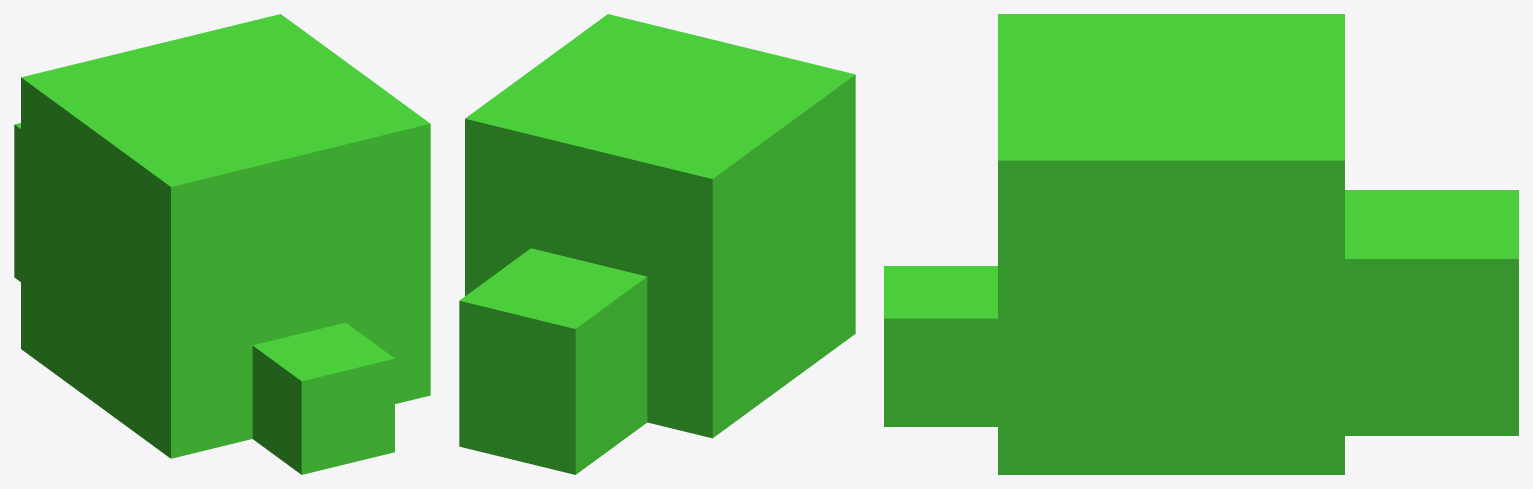
The model's file is sapo.fbx.
3 renders of one model, left to right at view 1: azimuth 30°, elevation 25°; view 2: azimuth 150°, elevation 25°; view 3: azimuth 270°, elevation 25°, orthographic. The views are drawn at different scales.
Visible parts, largest first — view 1: Cube.026; view 2: Cube.026; view 3: Cube.026.
Part boxes in pixels (x1,y1,x2,y2): Cube.026: (14,14,430,474); Cube.026: (459,14,855,474); Cube.026: (884,14,1518,474).
Bounding box in the file's own units: 200 × 200 × 366.
